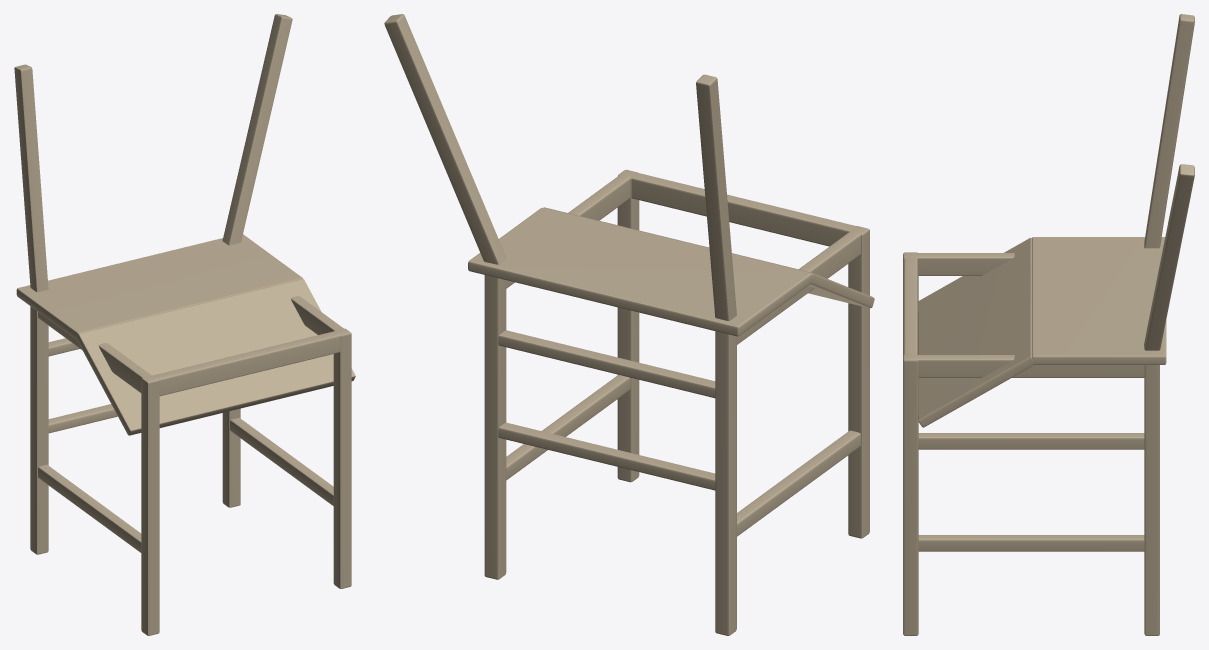
The model's file is chair-broken.glb.
3 views of the same model, side by side, from view 1: azimuth 30°, elevation 25°; view 2: azimuth 150°, elevation 25°; view 3: azimuth 270°, elevation 25° (orthographic). The views are drawn at different scales.
Visible parts, largest first — view 1: chair-broken; view 2: chair-broken; view 3: chair-broken.
Boxes of the visible parts, x1,y1,x2,y2 form: chair-broken: [14, 14, 355, 635]; chair-broken: [384, 14, 874, 635]; chair-broken: [903, 14, 1194, 635].
Size of the model in its own units: 0.5009 by 0.8004 by 0.4111.
